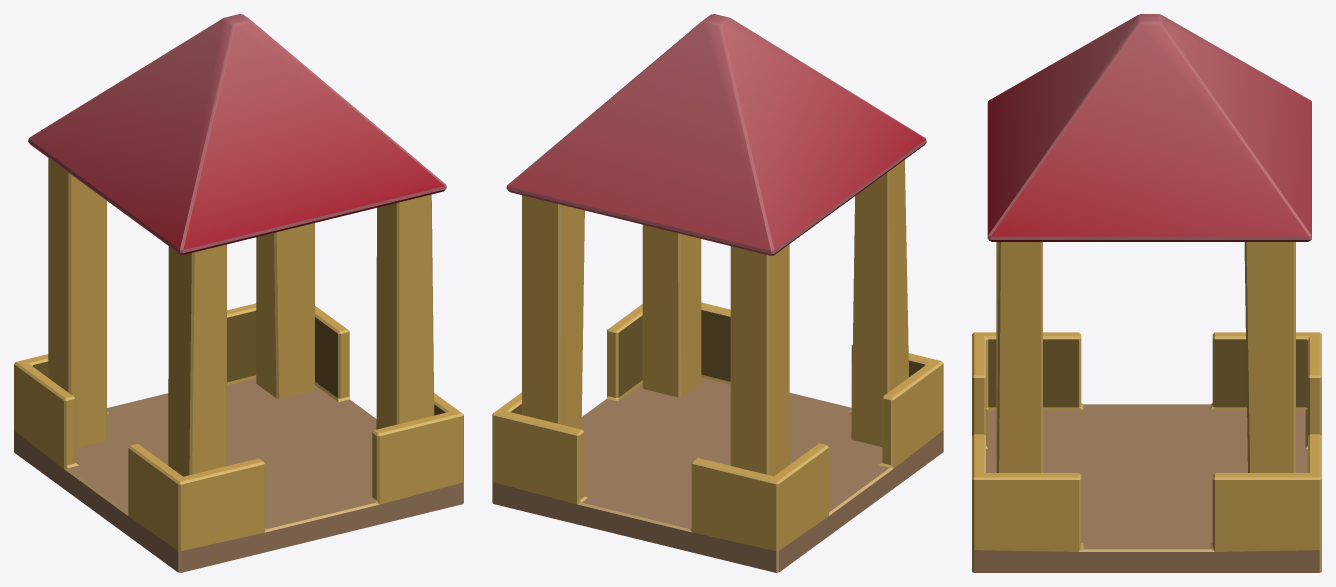
Rendered from pavillion.fbx.
3 views of the same model, side by side, from view 1: azimuth 30°, elevation 25°; view 2: azimuth 150°, elevation 25°; view 3: azimuth 270°, elevation 25° (orthographic). The views are drawn at different scales.
Visible parts, largest first — view 1: Cube.016; view 2: Cube.016; view 3: Cube.016.
Part boxes in pixels (bbox=[...]): Cube.016: bbox=[14, 14, 463, 572]; Cube.016: bbox=[492, 14, 943, 572]; Cube.016: bbox=[972, 14, 1321, 572].
Size of the model in its own units: 337 by 516 by 340.
